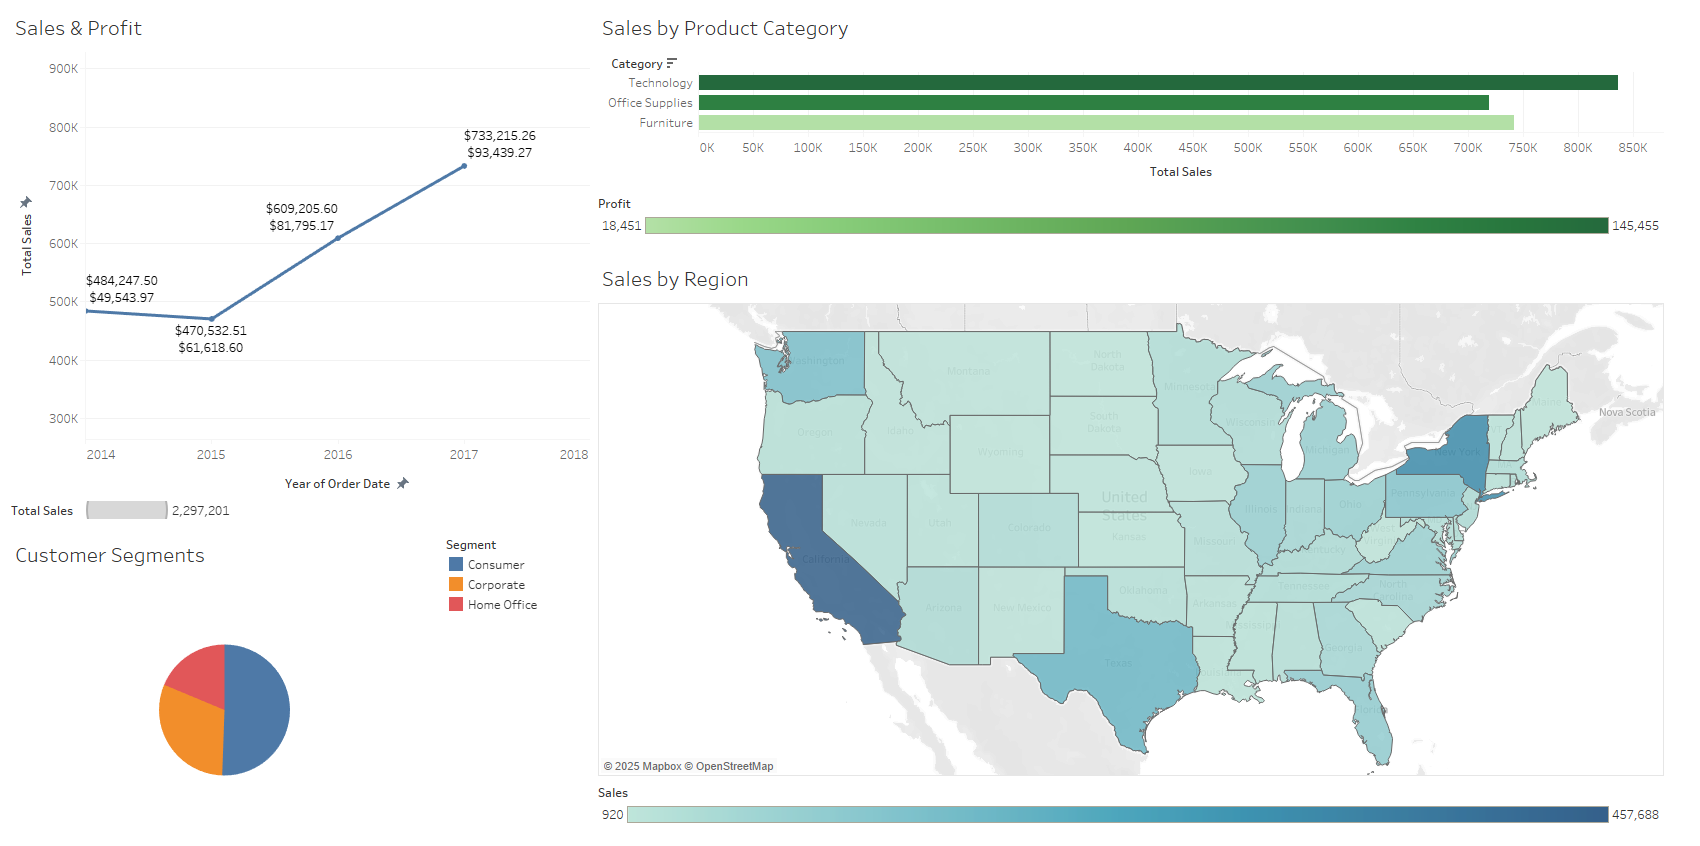

Layout of this report page (visuals, bound fields, positions):
{"tool":"tableau","page":{"name":"Dashboard 1","canvas":[1000,1000],"units":"permille","ordinal":0},"visuals":[{"type":"worksheet","title":"Sales & Profit","mark":"Line","rows":["Calculation_846395312340086784"],"cols":["Order Date"],"box":[4.7,9.3,343.5,573.6]},{"type":"worksheet","title":"Sales by Product Category","mark":"Bar","rows":["Category"],"cols":["Calculation_846395312340086784"],"box":[348.2,9.3,628.4,217.3]},{"type":"legend","title":"Sales by Product Category","param":"[federated.1l4zrie1vukckh10omj8019sqb6o].[sum:Profit:qk]","box":[348.2,226.6,628.4,75.9]},{"type":"worksheet","title":"Sales by Region","mark":"Multipolygon","box":[348.2,302.6,628.4,612.1]},{"type":"legend","title":"Customer Segments","param":"[federated.1l4zrie1vukckh10omj8019sqb6o].[usr:Calculation_846395312340086784:qk]","box":[4.7,582.9,343.5,42.1]},{"type":"worksheet","title":"Customer Segments","mark":"Pie","box":[4.7,625,254.4,365.7]},{"type":"legend","title":"Customer Segments","param":"[federated.1l4zrie1vukckh10omj8019sqb6o].[none:Segment:nk]","box":[259.1,625,89.1,365.7]},{"type":"legend","title":"Sales by Region","param":"[federated.1l4zrie1vukckh10omj8019sqb6o].[sum:Sales:qk]","box":[348.2,914.7,628.4,75.9]}]}

Visuals, with their boxes on the dashboard's canvas, which has no fixed pixel size, in thousandths of its width and height (x1, y1, x2, y2). These are canvas units, not pixel positions in the 1700x846 screenshot, which may show the page scaled, cropped or inside an application window:
"Sales & Profit" worksheet (Line marks): x1=5, y1=9, x2=348, y2=583
"Sales by Product Category" worksheet (Bar marks): x1=348, y1=9, x2=977, y2=227
"Sales by Product Category" legend: x1=348, y1=227, x2=977, y2=302
"Sales by Region" worksheet (Multipolygon marks): x1=348, y1=303, x2=977, y2=915
"Customer Segments" legend: x1=5, y1=583, x2=348, y2=625
"Customer Segments" worksheet (Pie marks): x1=5, y1=625, x2=259, y2=991
"Customer Segments" legend: x1=259, y1=625, x2=348, y2=991
"Sales by Region" legend: x1=348, y1=915, x2=977, y2=991
